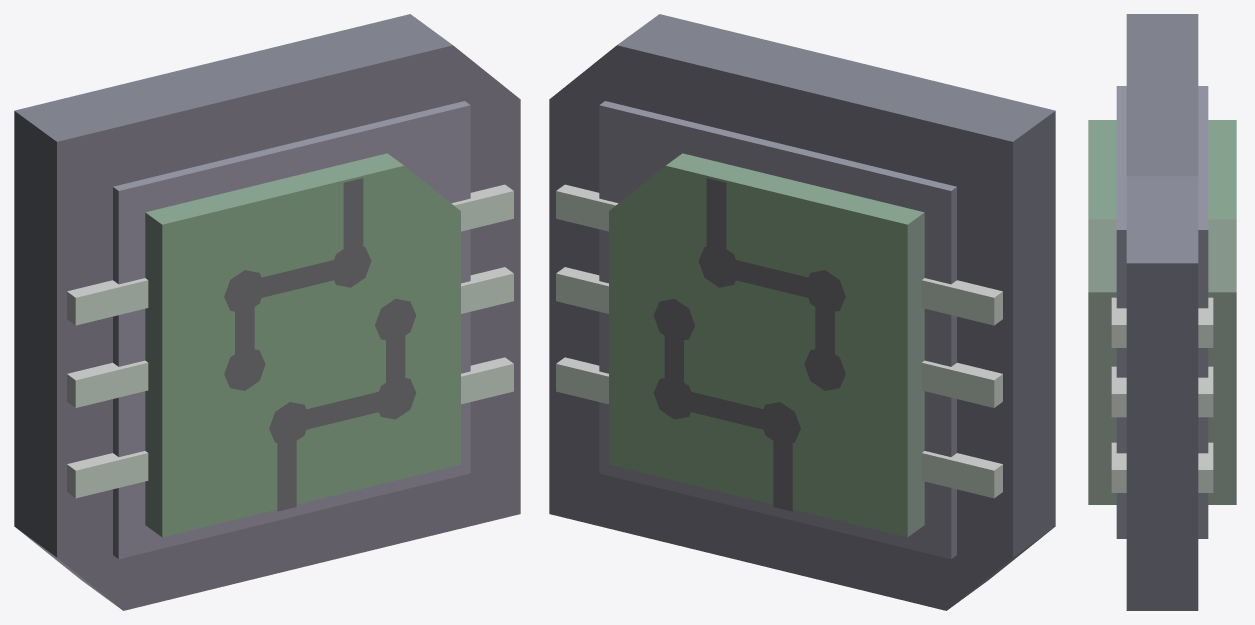
The model's file is colect_chip.glb.
3 views of the same model, side by side, from view 1: azimuth 30°, elevation 25°; view 2: azimuth 150°, elevation 25°; view 3: azimuth 270°, elevation 25° (orthographic). The views are drawn at different scales.
Parts seen in each view (by area): view 1: colect_chip; view 2: colect_chip; view 3: colect_chip.
Part boxes in pixels (x1,y1,x2,y2): colect_chip: (14,14,520,610); colect_chip: (549,14,1055,610); colect_chip: (1088,14,1236,610).
Bounding box in the file's own units: 0.307 × 0.307 × 0.1066.
